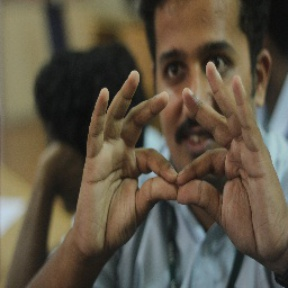B: (119, 135, 241, 221)
